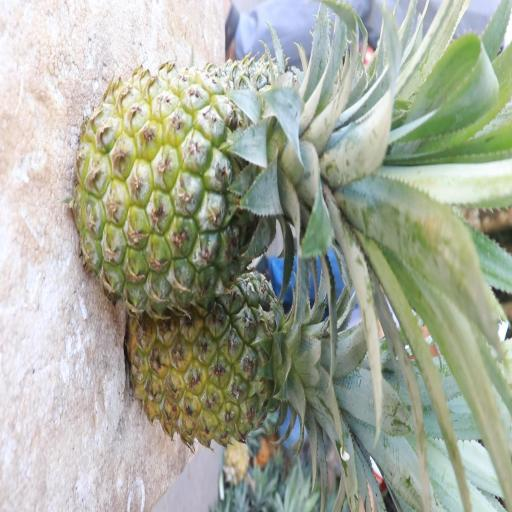------------------------------: (80, 61, 330, 303)
Pineapple - v8 v1: (130, 272, 345, 448)
